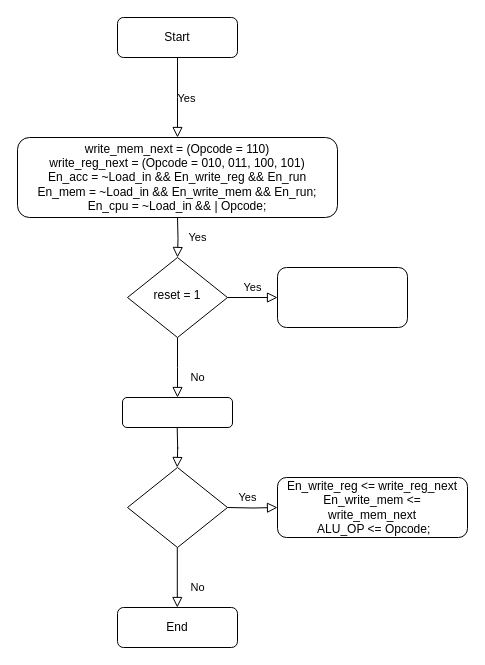
The diagram is 485 pixels wide and 665 high, and some of its shapes have lost their labels. Each missing label, with the centre of its shape:
En_cpu = 1: pixel 177 507
En_run = 0 En_write_reg = 0 En_write_mem = 0 ALU_OP = 000: pixel 342 297
En_run = En_cpu: pixel 177 412
